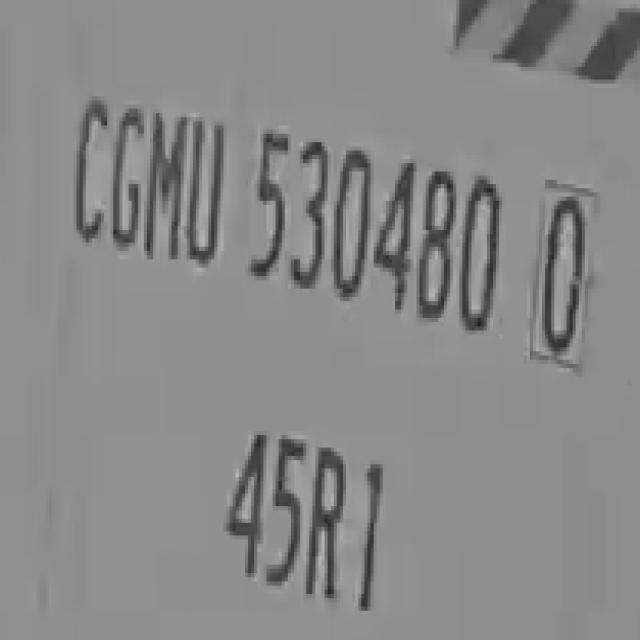dv: (531, 168, 597, 376)
owner: (58, 88, 230, 283)
serial: (246, 115, 509, 336)
size: (206, 397, 397, 620)
